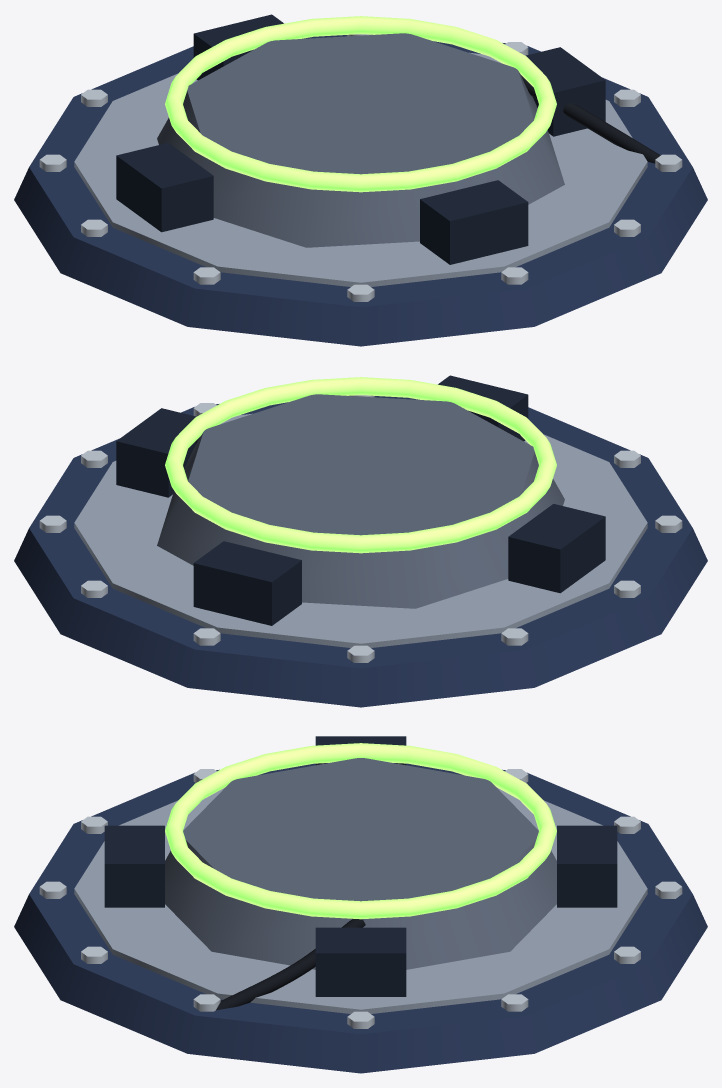
Rendered from socket_ground_base.glb.
The picture shows the model from 3 angles, top to bottom: view 1: azimuth 30°, elevation 25°; view 2: azimuth 150°, elevation 25°; view 3: azimuth 270°, elevation 25°; orthographic projection.
Visible parts, largest first — view 1: socket_ground_base_mount, socket_ground_base_plate, socket_ground_base_inlay, socket_ground_base_mount_ring, socket_ground_base_clamp1, socket_ground_base_clamp2, socket_ground_base_bolts, socket_ground_base_clamp0, socket_ground_base_feed, socket_ground_base_clamp3; view 2: socket_ground_base_mount, socket_ground_base_plate, socket_ground_base_inlay, socket_ground_base_mount_ring, socket_ground_base_clamp3, socket_ground_base_clamp2, socket_ground_base_clamp0, socket_ground_base_bolts, socket_ground_base_clamp1; view 3: socket_ground_base_mount, socket_ground_base_plate, socket_ground_base_inlay, socket_ground_base_mount_ring, socket_ground_base_clamp0, socket_ground_base_clamp1, socket_ground_base_clamp3, socket_ground_base_bolts, socket_ground_base_feed, socket_ground_base_clamp2.
Part boxes in pixels (x1,y1,x2,y2): socket_ground_base_mount: (157,33,564,247); socket_ground_base_plate: (14,35,707,346); socket_ground_base_inlay: (74,52,647,286); socket_ground_base_mount_ring: (165,16,556,192); socket_ground_base_clamp1: (420,180,528,264); socket_ground_base_clamp2: (116,143,213,232); socket_ground_base_bolts: (39,34,682,301); socket_ground_base_clamp0: (526,47,605,136); socket_ground_base_feed: (520,74,660,163); socket_ground_base_clamp3: (193,14,283,80); socket_ground_base_mount: (157,394,564,608); socket_ground_base_plate: (14,396,707,707); socket_ground_base_inlay: (74,413,647,647); socket_ground_base_mount_ring: (165,377,556,553); socket_ground_base_clamp3: (193,541,301,625); socket_ground_base_clamp2: (508,504,605,593); socket_ground_base_clamp0: (116,408,200,497); socket_ground_base_bolts: (39,395,682,662); socket_ground_base_clamp1: (438,375,528,441); socket_ground_base_mount: (165,758,556,969); socket_ground_base_plate: (14,763,707,1073); socket_ground_base_inlay: (74,787,647,1013); socket_ground_base_mount_ring: (165,743,556,919); socket_ground_base_clamp0: (315,927,406,996); socket_ground_base_clamp1: (104,825,164,907); socket_ground_base_clamp3: (557,825,617,907); socket_ground_base_bolts: (39,769,682,1028); socket_ground_base_feed: (216,919,365,1010); socket_ground_base_clamp2: (315,736,406,765).
Size of the model in its own units: 2.3 by 0.376 by 2.3.
